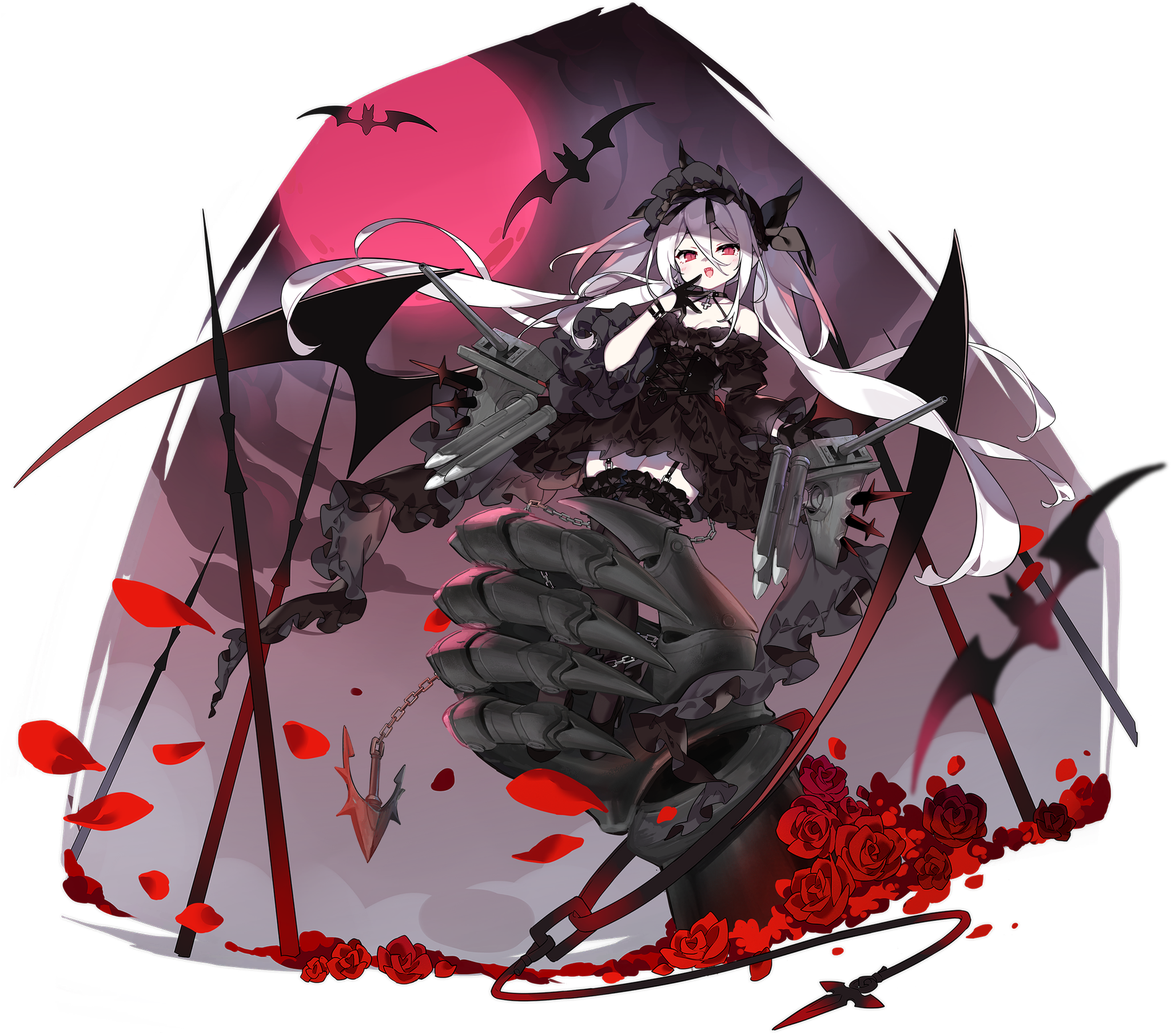person: (287, 82, 1106, 1022)
